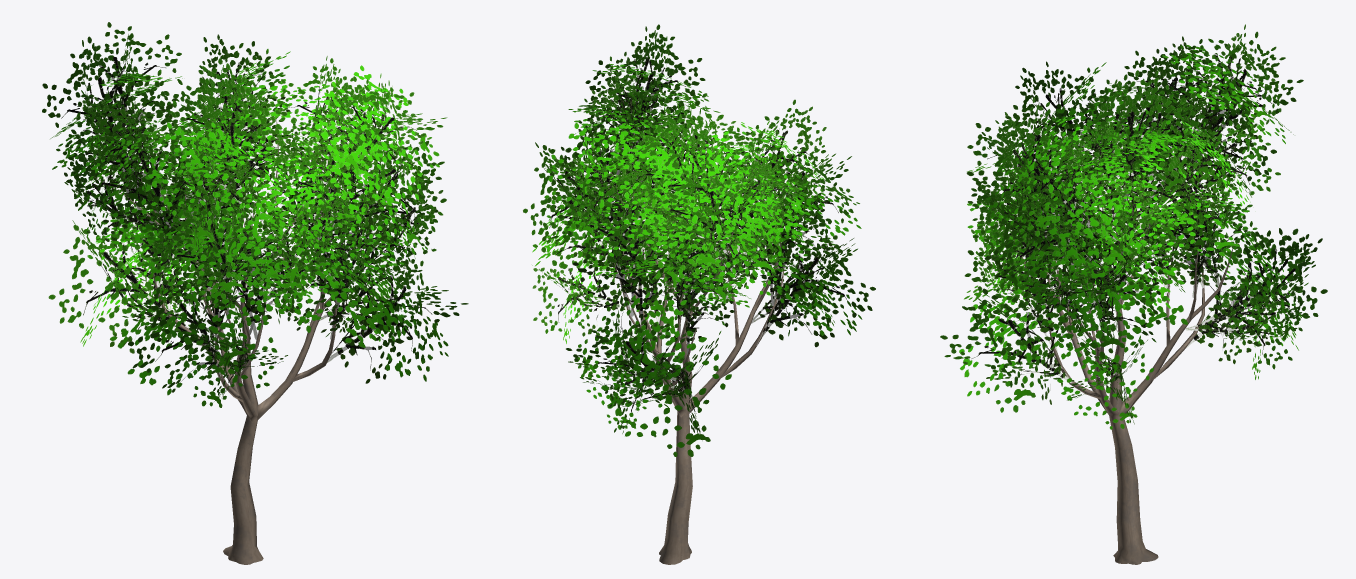
File: tree_Broadleaf_M1_LOD0.fbx
3 renders of one model, left to right at view 1: azimuth 30°, elevation 25°; view 2: azimuth 150°, elevation 25°; view 3: azimuth 270°, elevation 25°, orthographic. The views are drawn at different scales.
Parts seen in each view (by area): view 1: Broadleaf_M1_LOD0; view 2: Broadleaf_M1_LOD0; view 3: Broadleaf_M1_LOD0.
Boxes of the visible parts, <box> form: Broadleaf_M1_LOD0: <box>42,22,468,564</box>; Broadleaf_M1_LOD0: <box>523,24,875,564</box>; Broadleaf_M1_LOD0: <box>940,24,1327,564</box>.
Size of the model in its own units: 1005 by 1373 by 1029.
